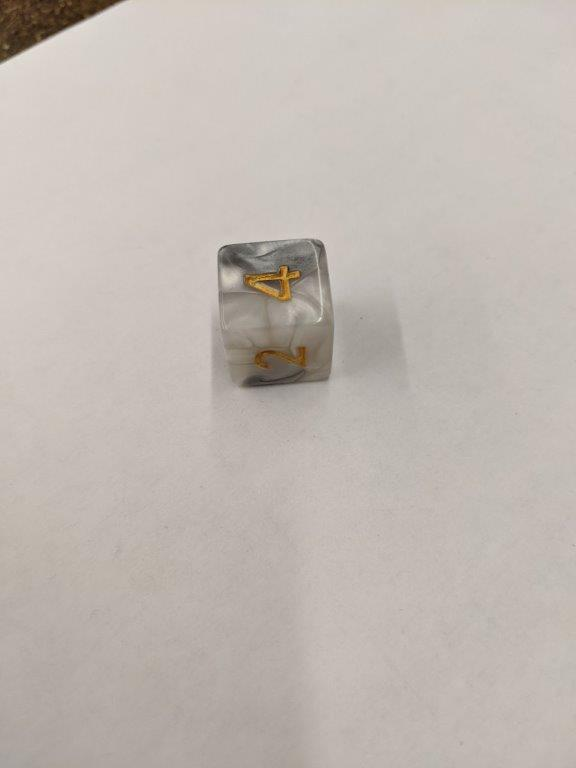d6-4: (215, 236, 337, 393)
